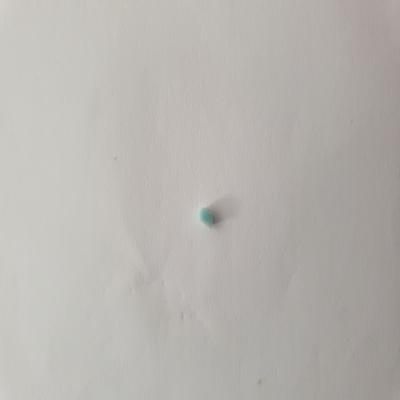plastic: (196, 202, 224, 232)
